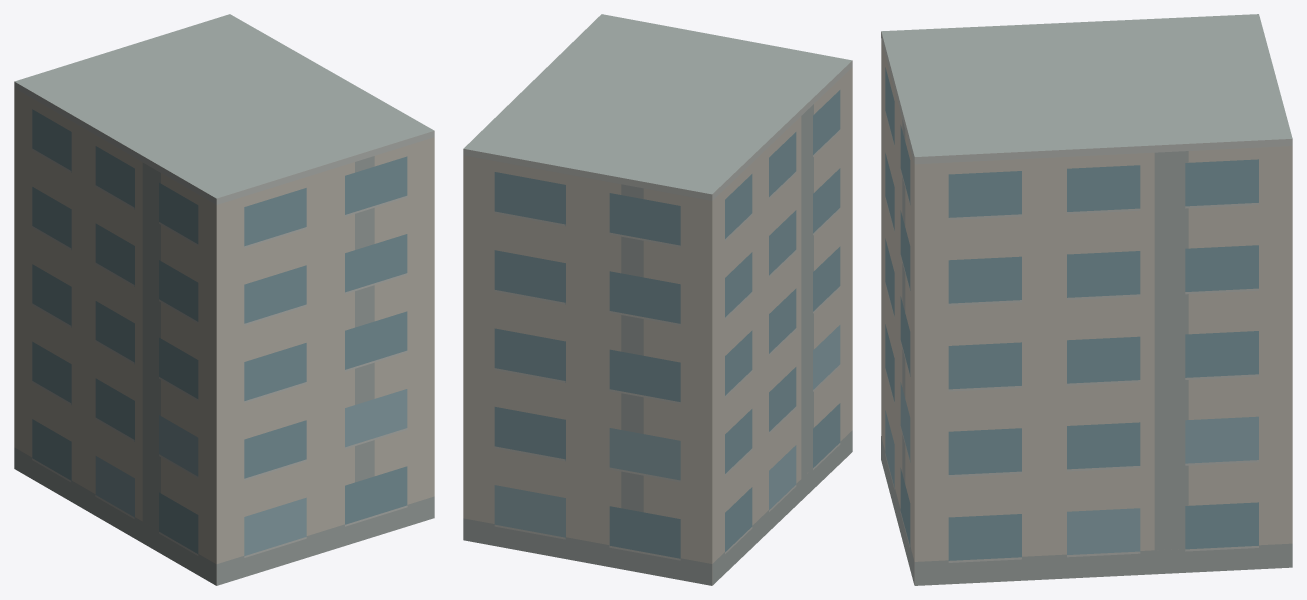
The model's file is survey-upis-32892265.glb.
The picture shows the model from 3 angles, left to right: view 1: azimuth 30°, elevation 25°; view 2: azimuth 150°, elevation 25°; view 3: azimuth 270°, elevation 25°; orthographic projection. The views are drawn at different scales.
Visible parts, largest first — view 1: survey-upis-32892265.tmp; view 2: survey-upis-32892265.tmp; view 3: survey-upis-32892265.tmp.
Part boxes in pixels (box(x1,y1,x2,y2)): survey-upis-32892265.tmp: box(14, 14, 434, 585); survey-upis-32892265.tmp: box(463, 14, 852, 585); survey-upis-32892265.tmp: box(881, 14, 1292, 585).
Bounding box in the file's own units: 10.43 × 14.55 × 12.66.
